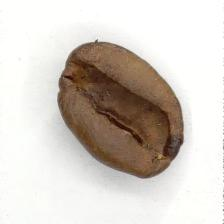NG: (70, 54, 166, 149)
